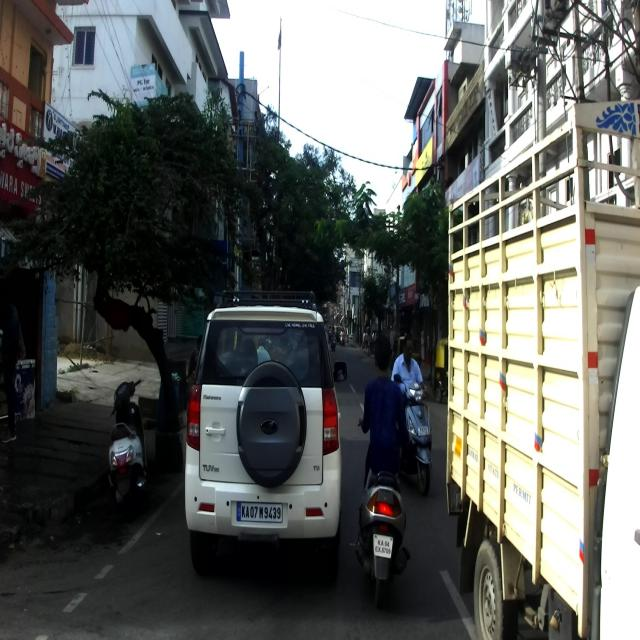Car_Mahindra: (184, 288, 348, 580)
scooter: (349, 421, 413, 606), (107, 378, 147, 520), (393, 373, 433, 495)
truck: (445, 99, 639, 639)
